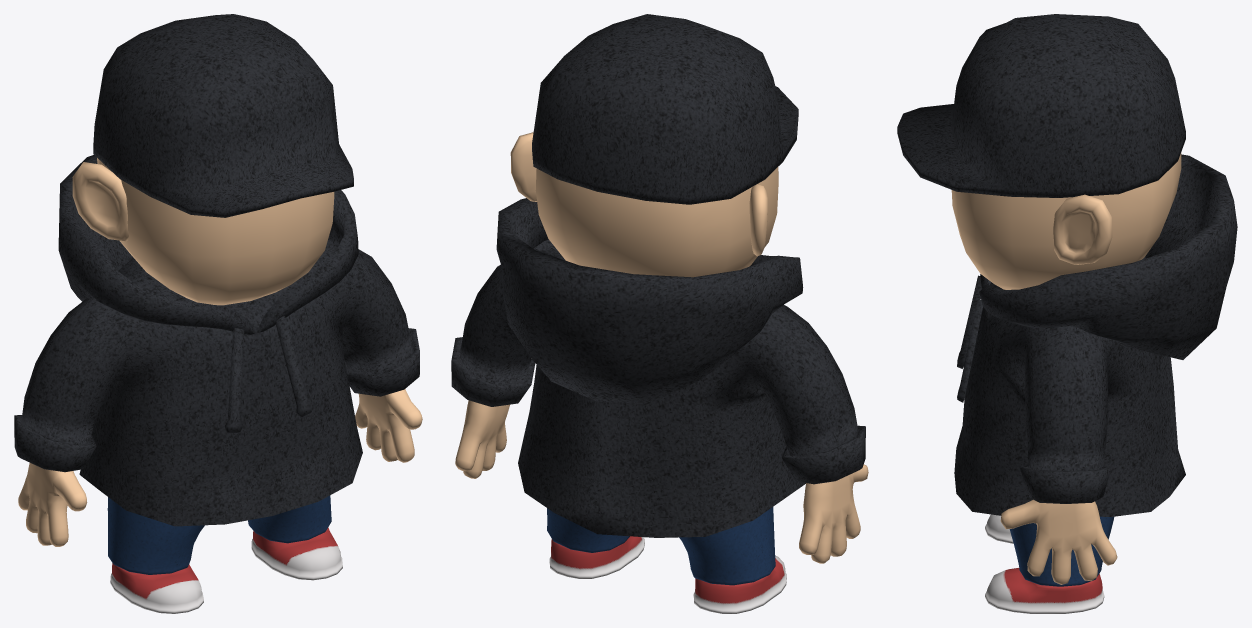
The model's file is encapuchado.glb.
The picture shows the model from 3 angles, left to right: view 1: azimuth 30°, elevation 25°; view 2: azimuth 150°, elevation 25°; view 3: azimuth 270°, elevation 25°; orthographic projection. The views are drawn at different scales.
Parts seen in each view (by area): view 1: encapuchado; view 2: encapuchado; view 3: encapuchado.
Part boxes in pixels (x1,y1,x2,y2): encapuchado: (14,14,422,613); encapuchado: (451,14,868,613); encapuchado: (897,14,1237,613).
Size of the model in its own units: 1.03 by 1.33 by 0.7619.
1 material, 1 textured.
